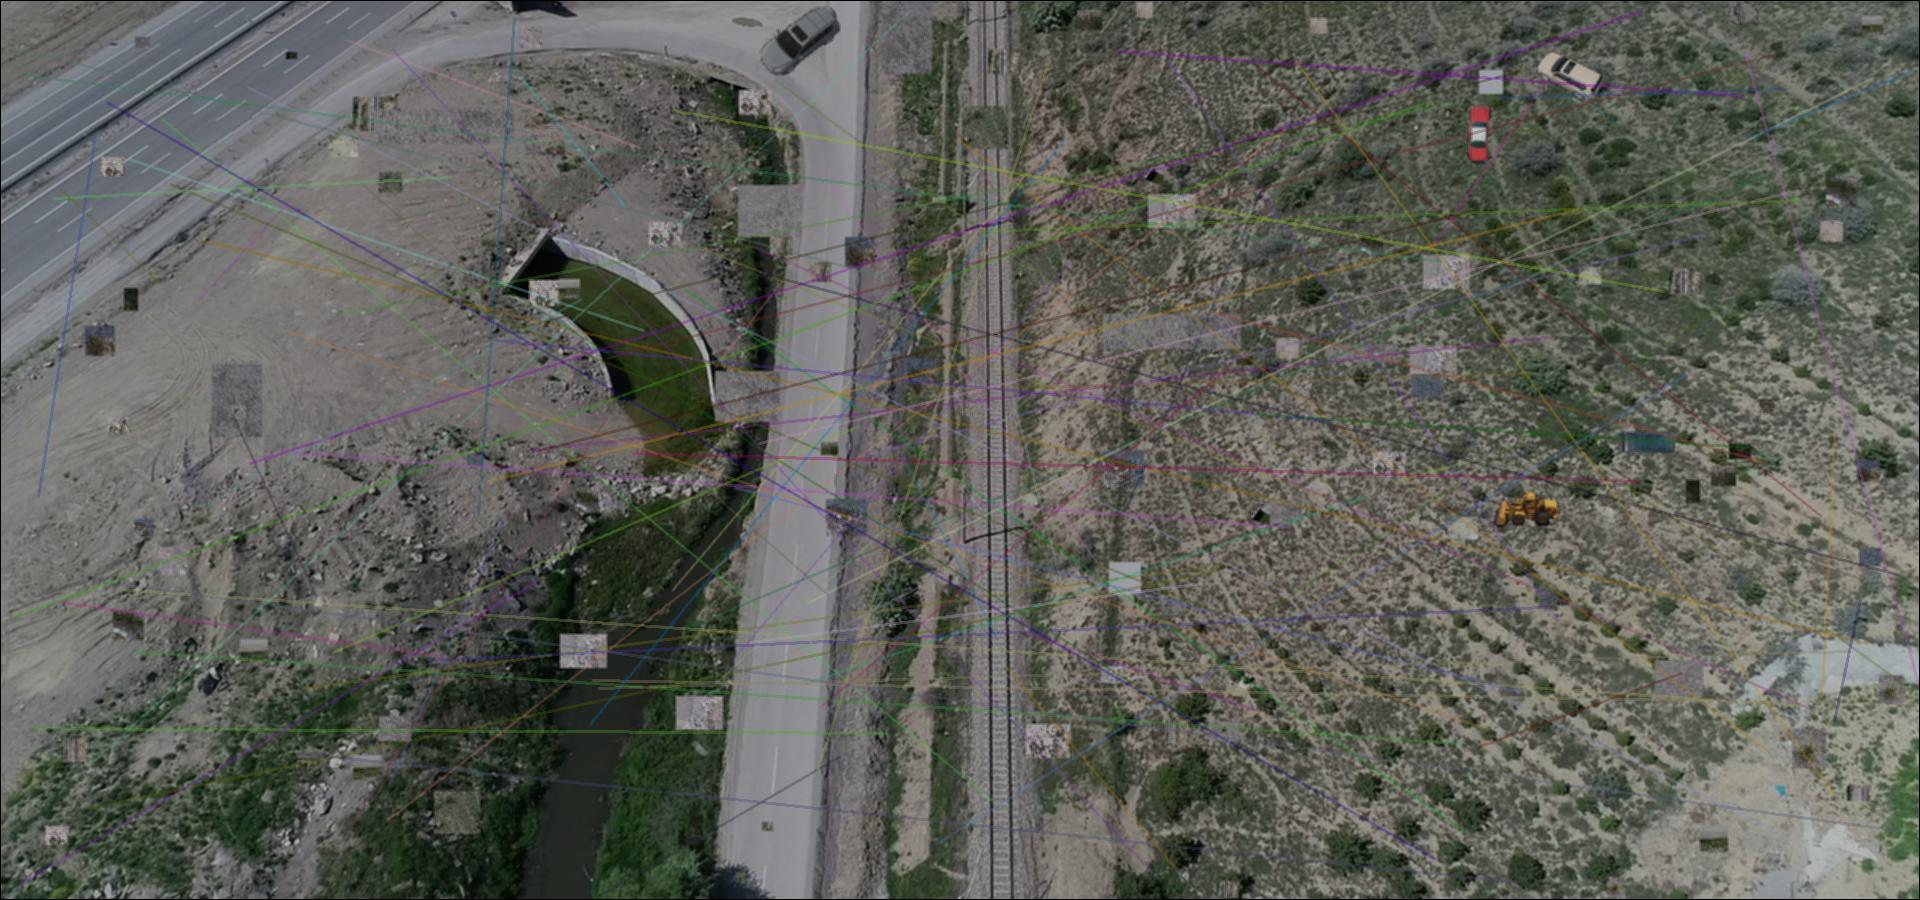arac: (757, 7, 840, 75), (1534, 48, 1604, 100), (1491, 490, 1562, 528), (1618, 430, 1676, 456), (1467, 107, 1491, 165)
